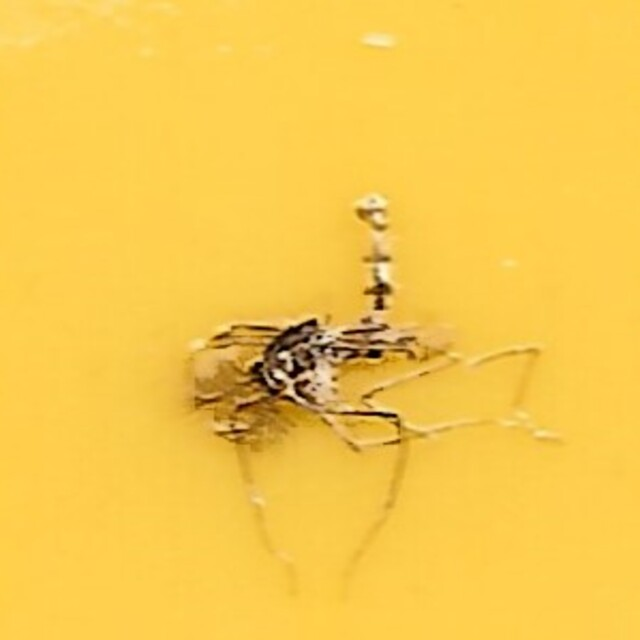Nematocera: (214, 192, 426, 448)
